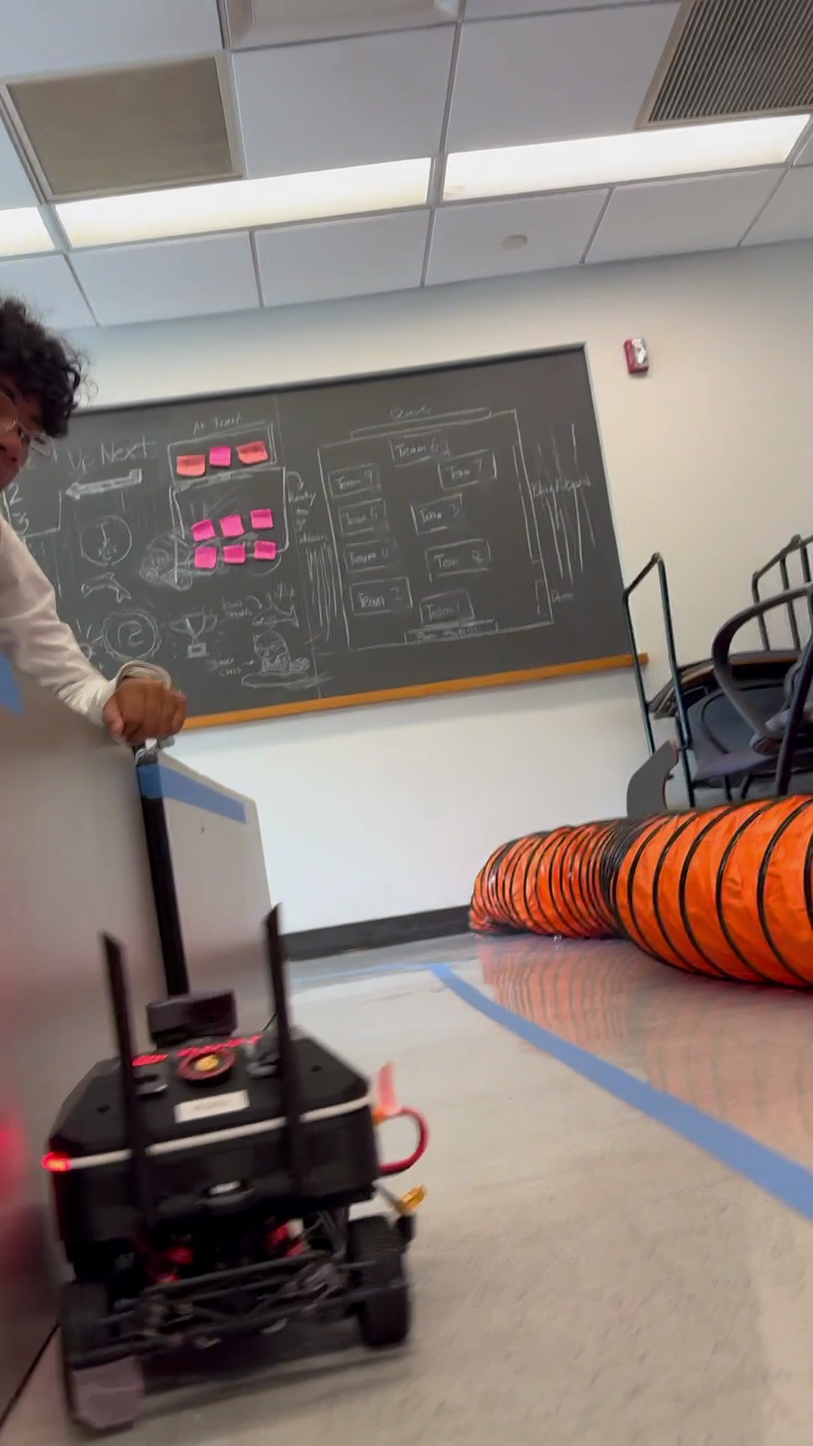racecar: (42, 912, 429, 1431), (633, 554, 811, 811)
